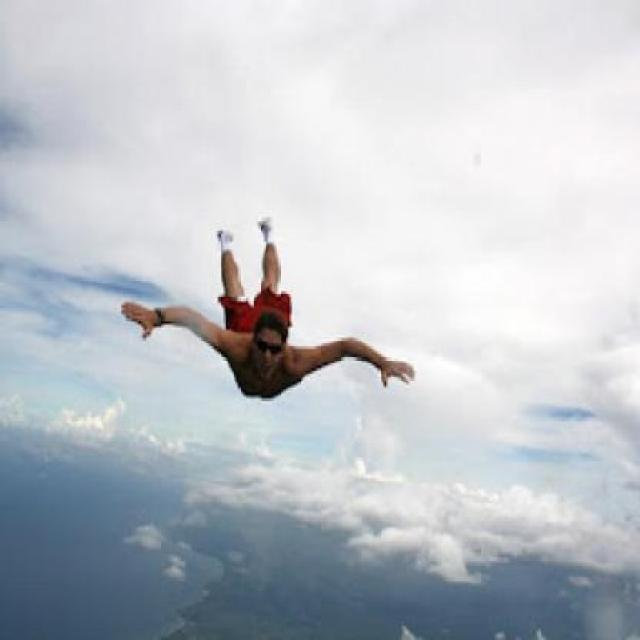fall: (116, 212, 416, 417)
